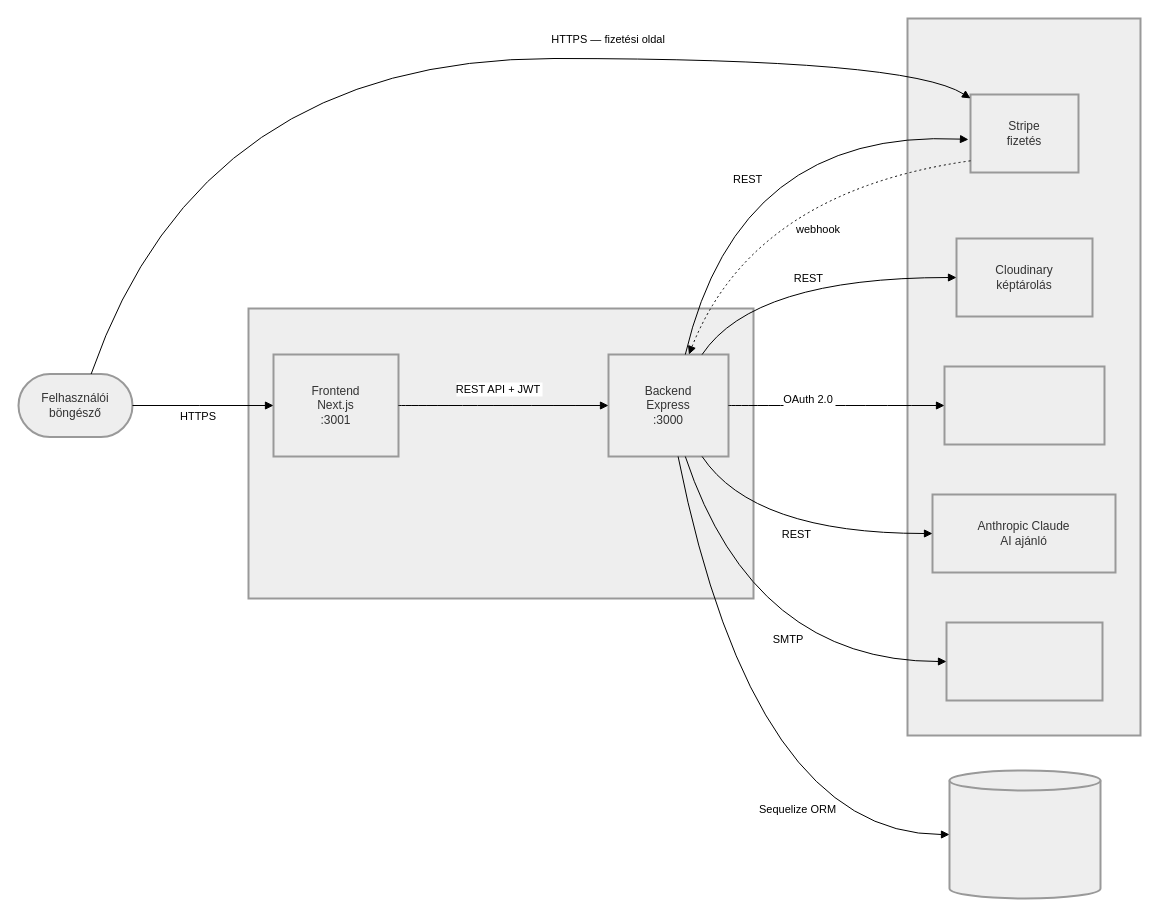
The diagram is 1158 pixels wide and 916 high, and some of its shapes have lost their labels. Here are the shapes that lost their labels. From the top down, the box of each, then its label:
(943, 365, 1105, 445): Google OAuth bejelentkezés
(247, 307, 754, 599): Docker Compose
(945, 621, 1103, 701): Gmail SMTP e-mail küldés
(948, 769, 1101, 899): PostgreSQL Supabase managed :5432
